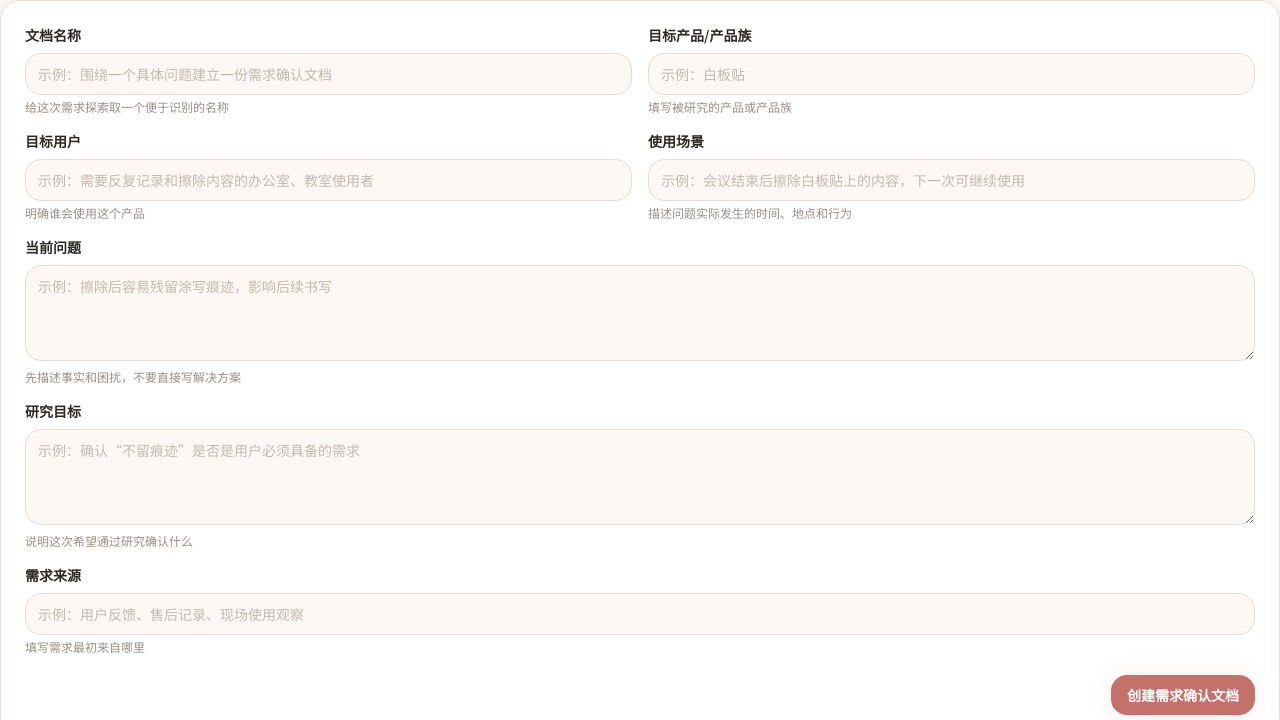
需求确认文档创建反馈 › 创建后显示保存成功反馈并跳转到新文档
Step 1. Type "家具膜需求调查" into the field with placeholder "示例：围绕一个具体问题建立一份需求确认文档" → (328, 74), box [25, 53, 632, 95]
Step 2. Type "家居保护膜" into the field with placeholder "示例：白板贴" → (952, 74), box [648, 53, 1255, 95]
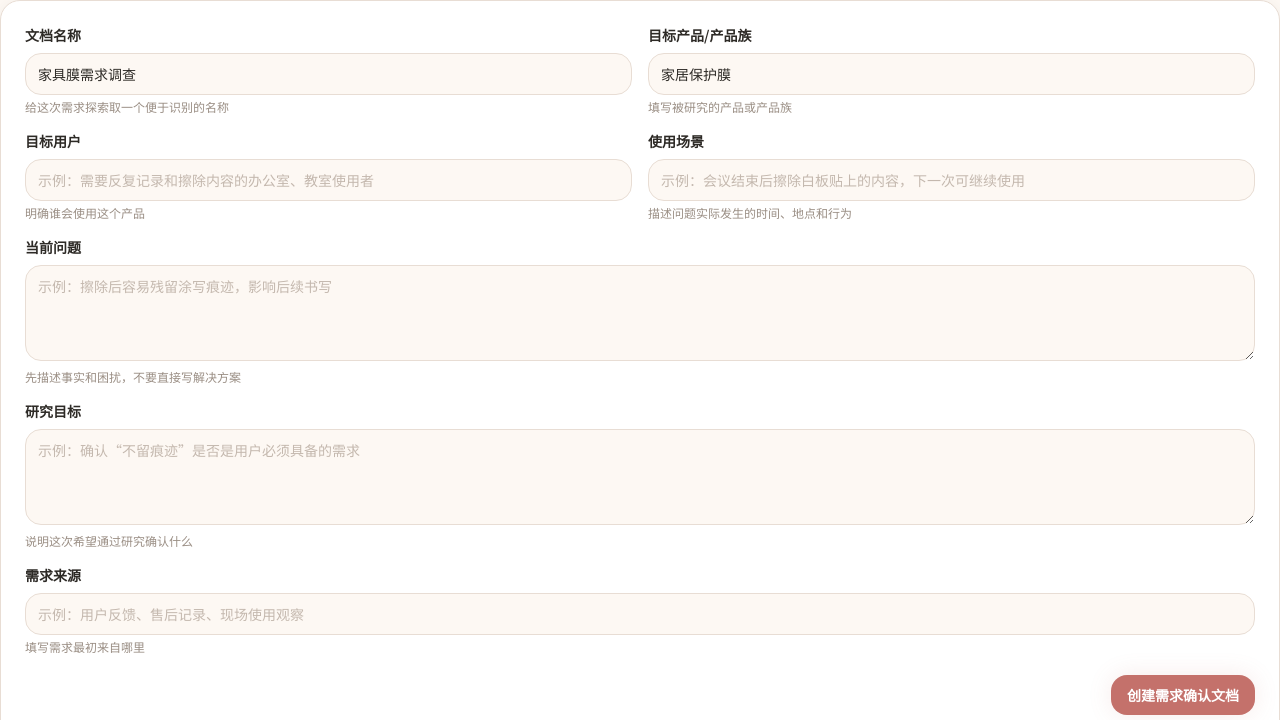
Step 3. Type "家庭用户" into the field with placeholder "示例：需要反复记录和擦除内容的办公室、教室使用者" → (328, 180), box [25, 159, 632, 201]
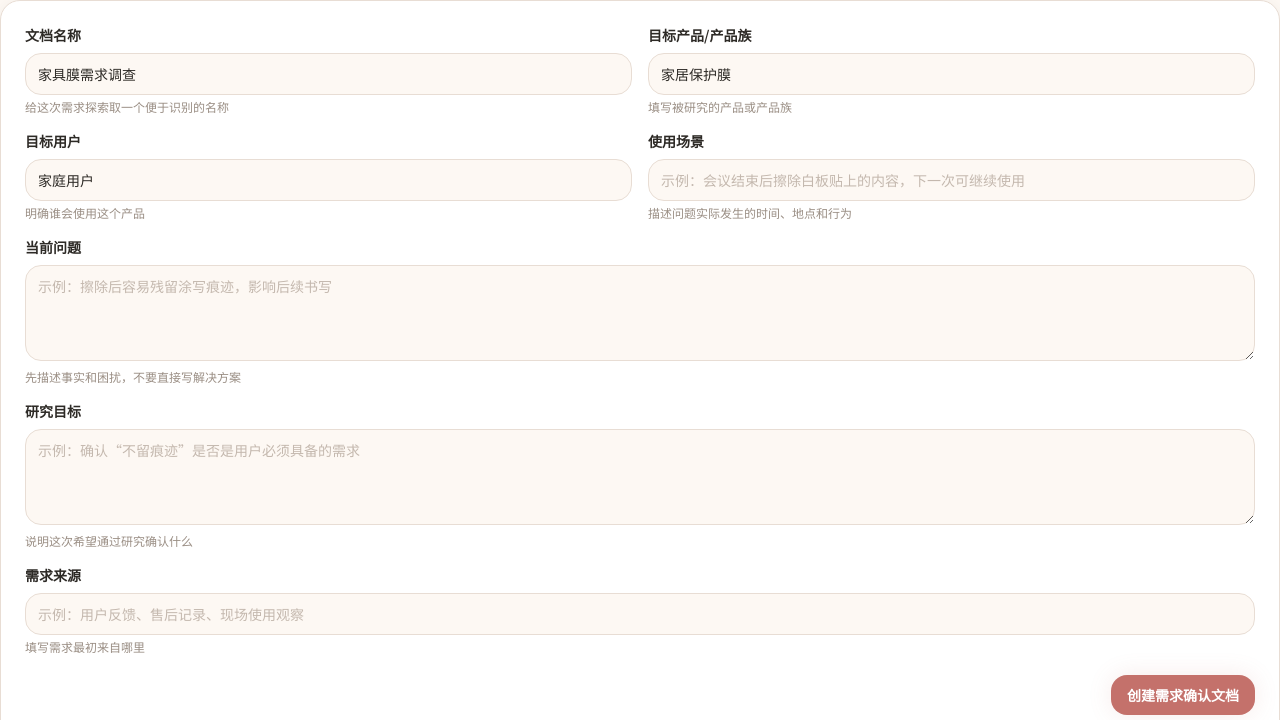
Step 4. Type "家具表面保护" into the field with placeholder "示例：会议结束后擦除白板贴上的内容，下一次可继续使用" → (952, 180), box [648, 159, 1255, 201]
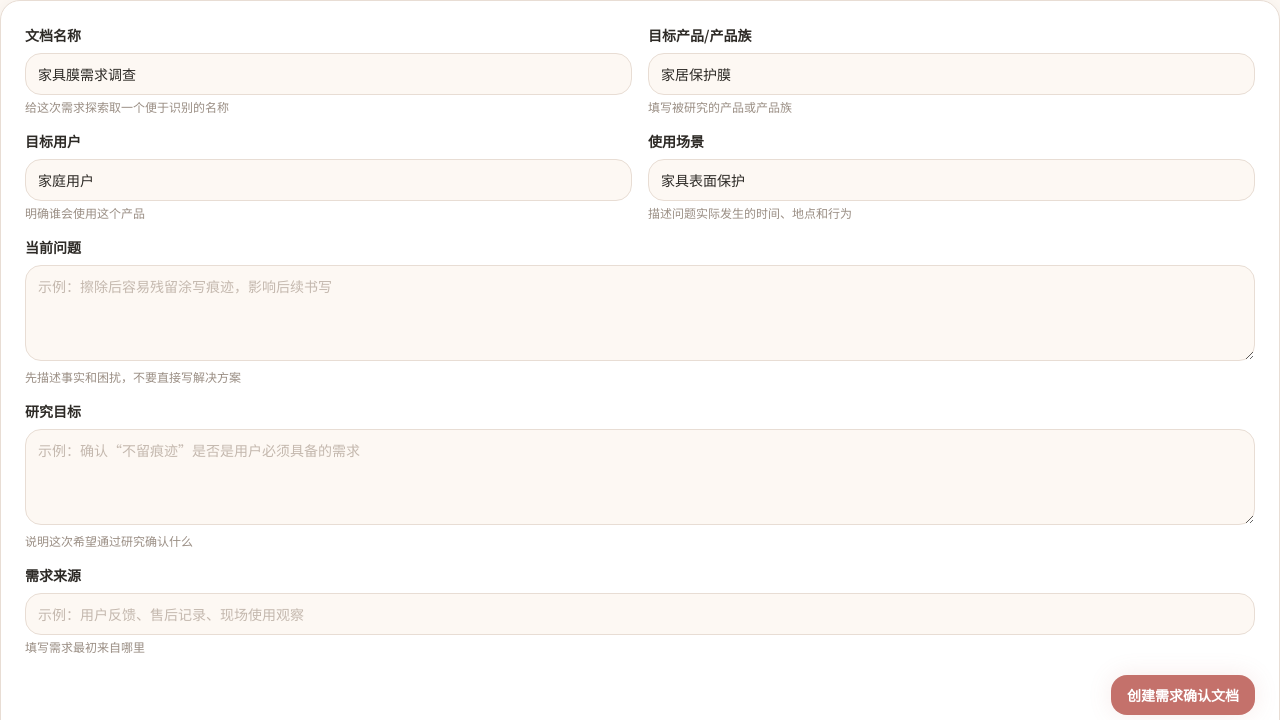
Step 5. Type "销售下滑" into the text box with placeholder "示例：擦除后容易残留涂写痕迹，影响后续书写" → (640, 313), box [25, 265, 1255, 361]
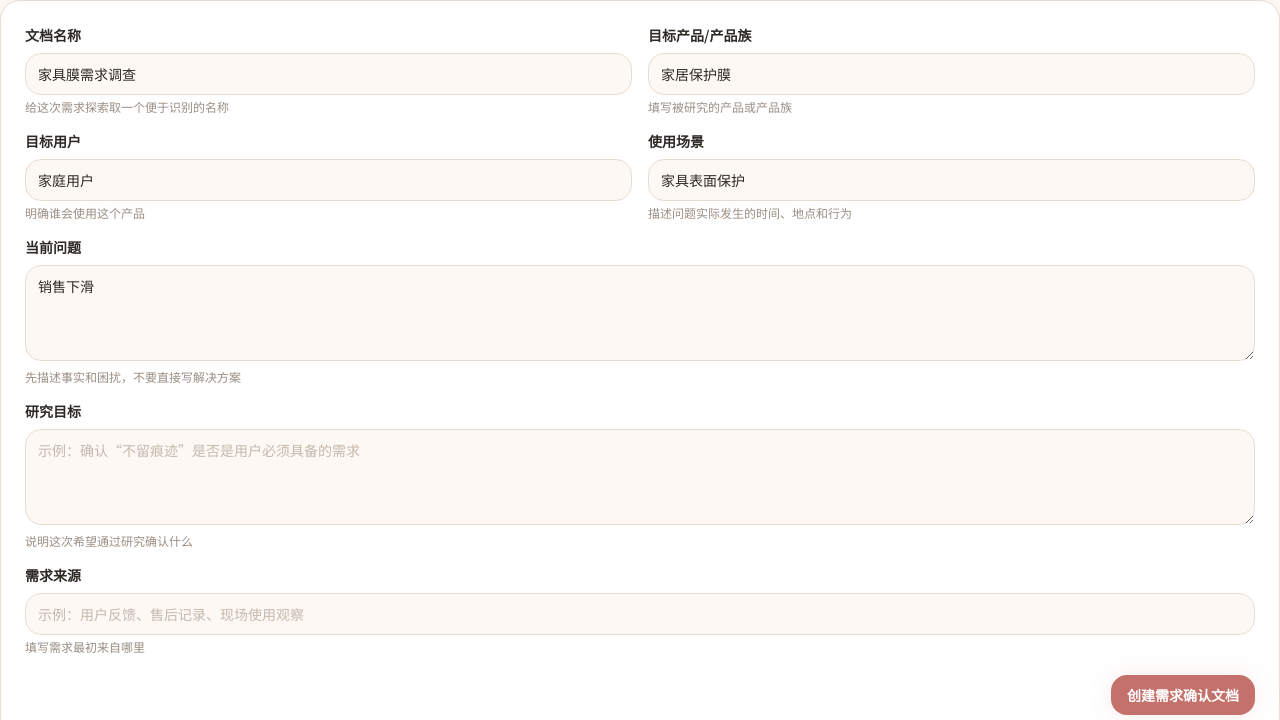
Step 6. Type "确认问题来源" into the text box with placeholder "示例：确认“不留痕迹”是否是用户必须具备的需求" → (640, 477), box [25, 429, 1255, 525]
(page scrolled)
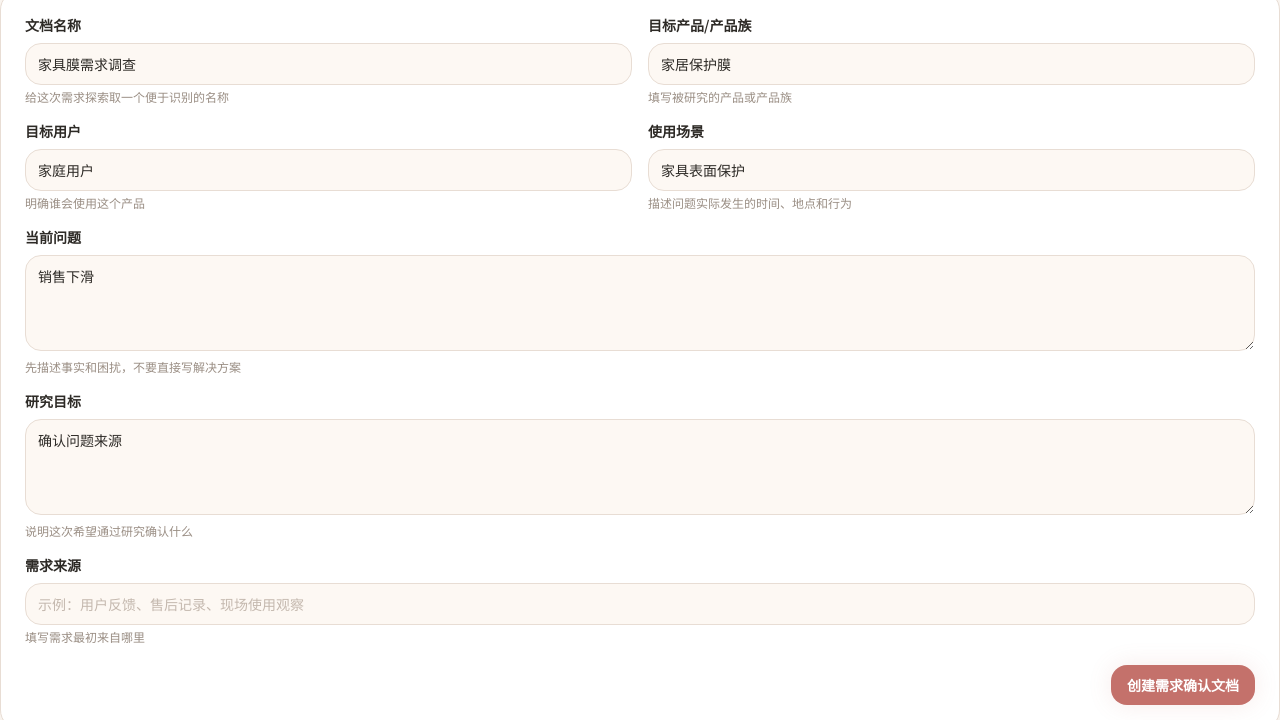
Step 7. Submit the form named "创建需求确认文档"
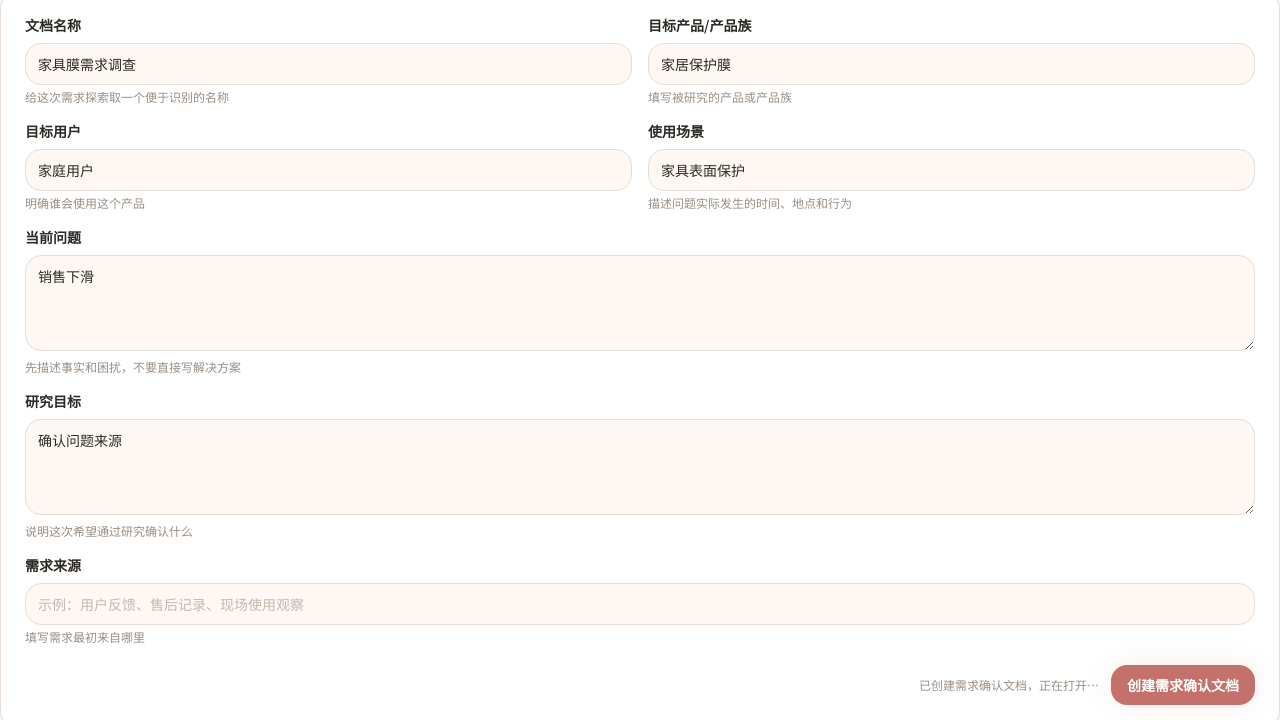
Result: the message shows "已创建需求确认文档，正在打开" at [919, 676, 1099, 693]
